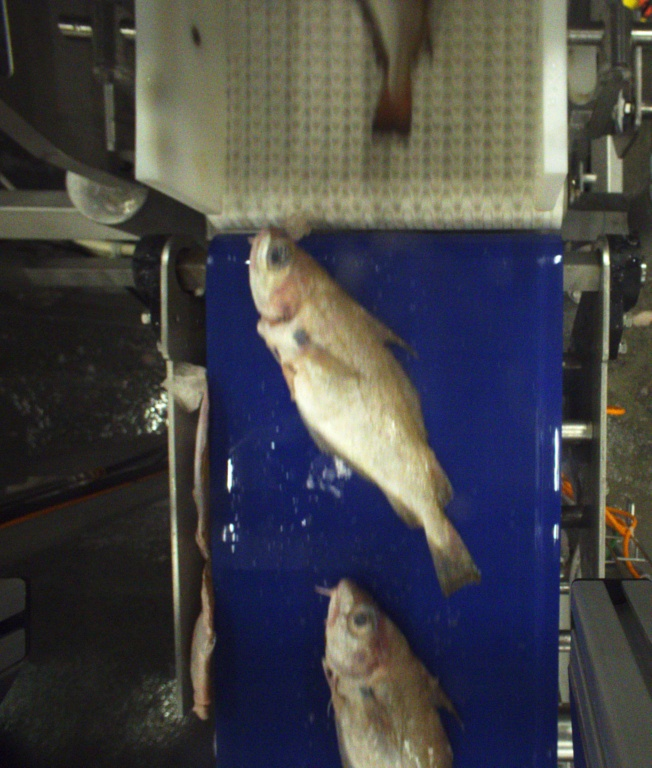BIB: (312, 577, 461, 768)
